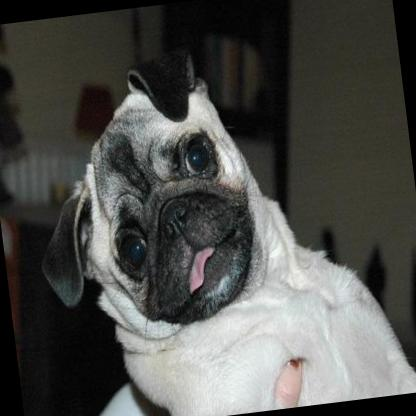pug: (15, 22, 416, 416)
